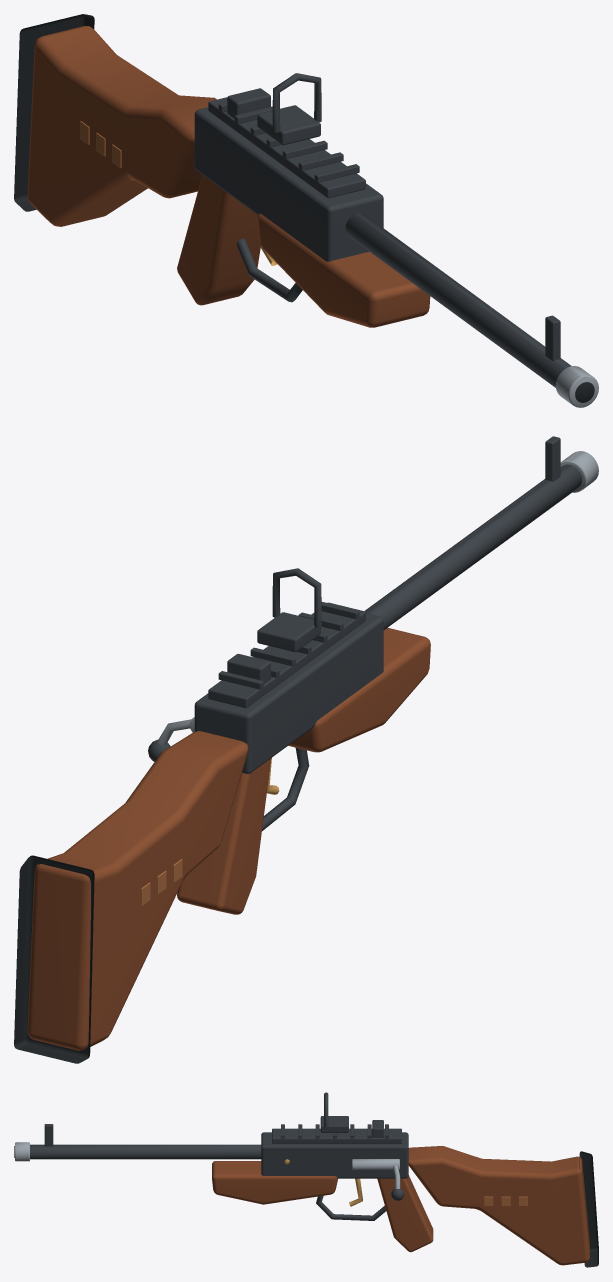
File: ks-rifle-airgun.glb
3 renders of one model, top to bottom at view 1: azimuth 30°, elevation 25°; view 2: azimuth 150°, elevation 25°; view 3: azimuth 270°, elevation 25°, orthographic. The views are drawn at different scales.
Parts seen in each view (by area): view 1: static_batch_Warm_walnut, static_batch_Graphite, static_batch_Soft_matte_contact_pads, capsule_muzzle_rim, static_batch_Walnut_edge_grain; view 2: static_batch_Warm_walnut, static_batch_Graphite, static_batch_Soft_matte_contact_pads; view 3: static_batch_Warm_walnut, static_batch_Graphite, static_batch_Soft_matte_contact_pads, bolt, static_batch_Walnut_edge_grain, capsule_muzzle_rim.
Boxes of the visible parts, x1=… form: static_batch_Warm_walnut: x1=27, y1=26, x2=430, y2=327; static_batch_Graphite: x1=194, y1=73, x2=571, y2=387; static_batch_Soft_matte_contact_pads: x1=14, y1=14, x2=594, y2=402; capsule_muzzle_rim: x1=555, y1=366, x2=598, y2=407; static_batch_Walnut_edge_grain: x1=80, y1=121, x2=121, y2=168; static_batch_Warm_walnut: x1=27, y1=627, x2=430, y2=1050; static_batch_Graphite: x1=194, y1=436, x2=581, y2=830; static_batch_Soft_matte_contact_pads: x1=14, y1=855, x2=94, y2=1063; static_batch_Warm_walnut: x1=212, y1=1146, x2=589, y2=1265; static_batch_Graphite: x1=30, y1=1092, x2=408, y2=1220; static_batch_Soft_matte_contact_pads: x1=14, y1=1146, x2=598, y2=1267; bolt: x1=352, y1=1159, x2=399, y2=1169; static_batch_Walnut_edge_grain: x1=484, y1=1196, x2=527, y2=1206; capsule_muzzle_rim: x1=15, y1=1142, x2=29, y2=1161.
Size of the model in its own units: 0.166 by 0.4243 by 1.35.
